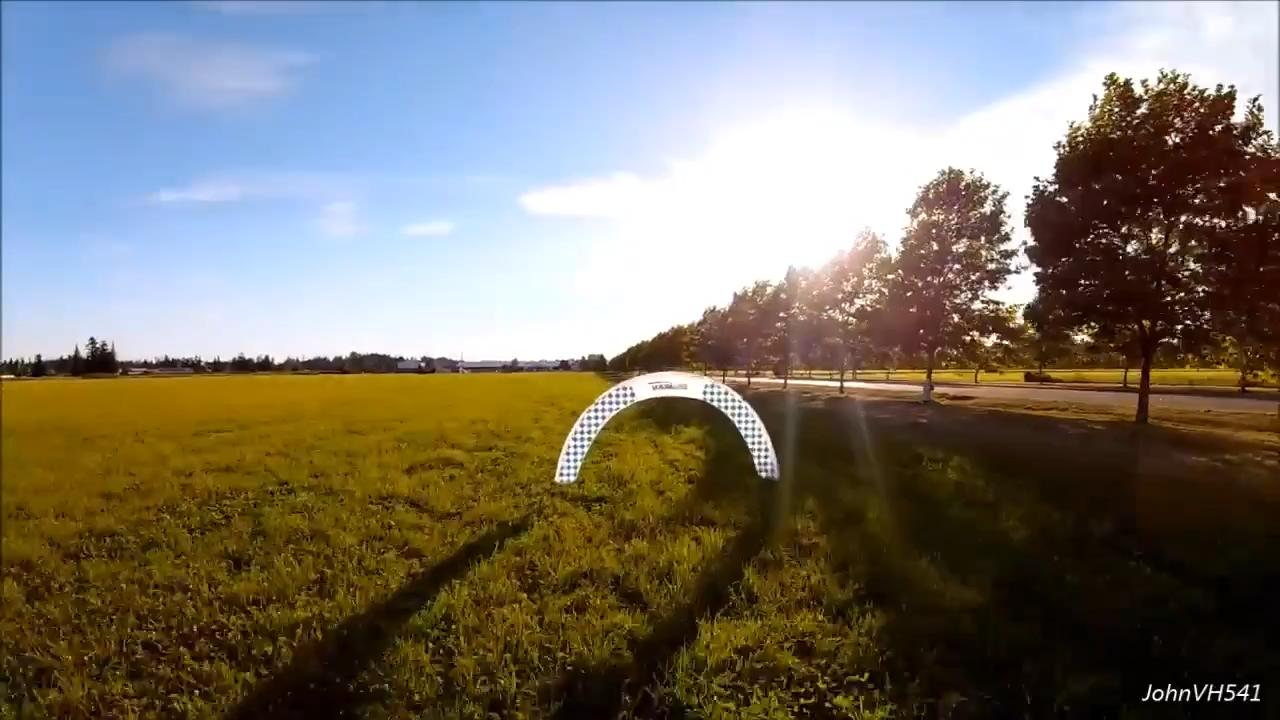gate: (550, 373, 783, 485)
